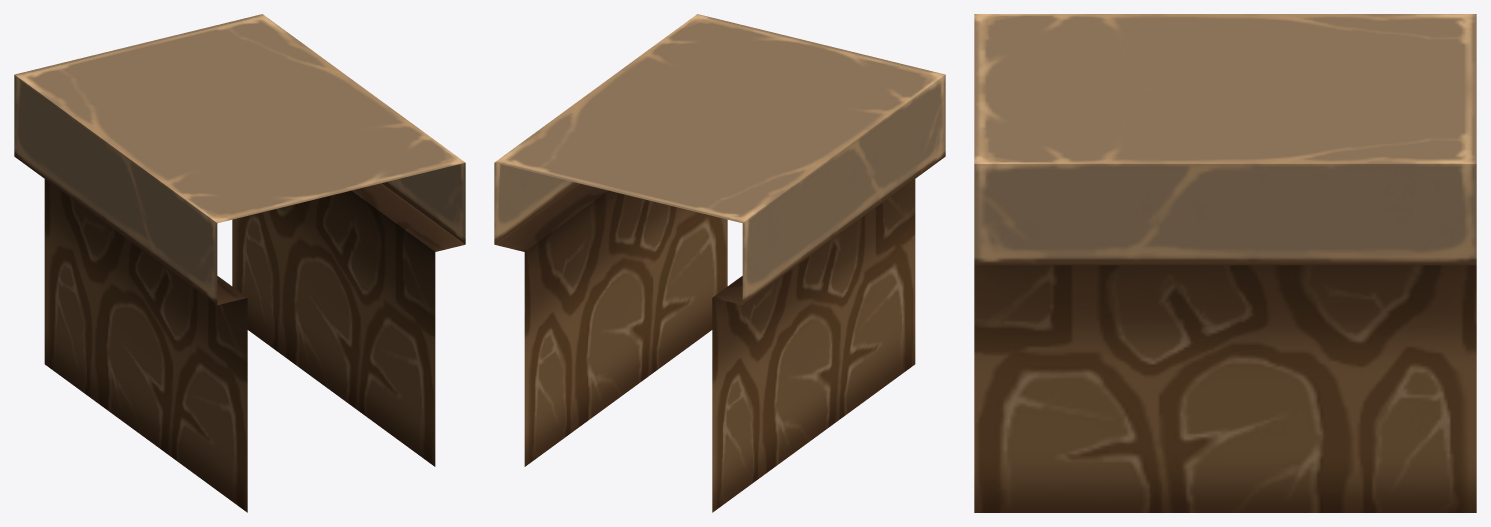
The model's file is FencePart_02.FBX.
The picture shows the model from 3 angles, left to right: view 1: azimuth 30°, elevation 25°; view 2: azimuth 150°, elevation 25°; view 3: azimuth 270°, elevation 25°; orthographic projection. The views are drawn at different scales.
Parts seen in each view (by area): view 1: FencePart_02; view 2: FencePart_02; view 3: FencePart_02.
Part boxes in pixels (x1,y1,x2,y2): FencePart_02: (14,14,465,512); FencePart_02: (494,14,945,512); FencePart_02: (974,14,1476,512).
Bounding box in the file's own units: 0.1763 × 0.2016 × 0.2498.
